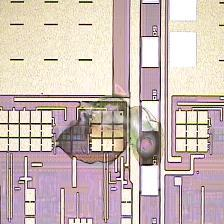PARTICLE: (53, 84, 169, 170)
